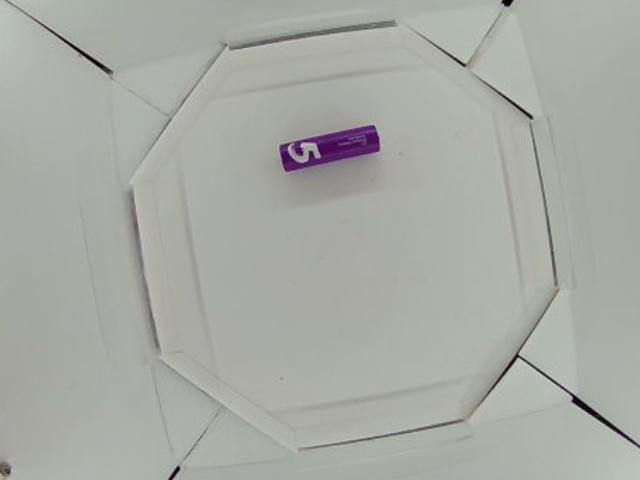Battery: (280, 125, 381, 171)
